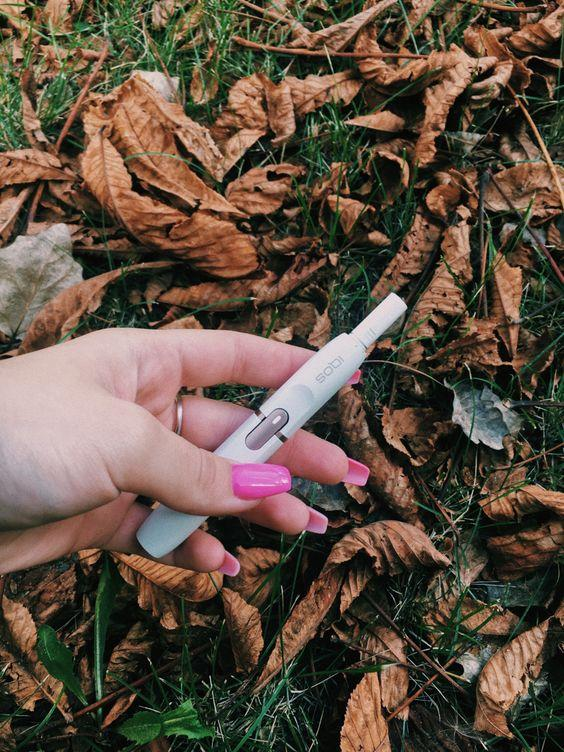iqos: (135, 291, 408, 558)
